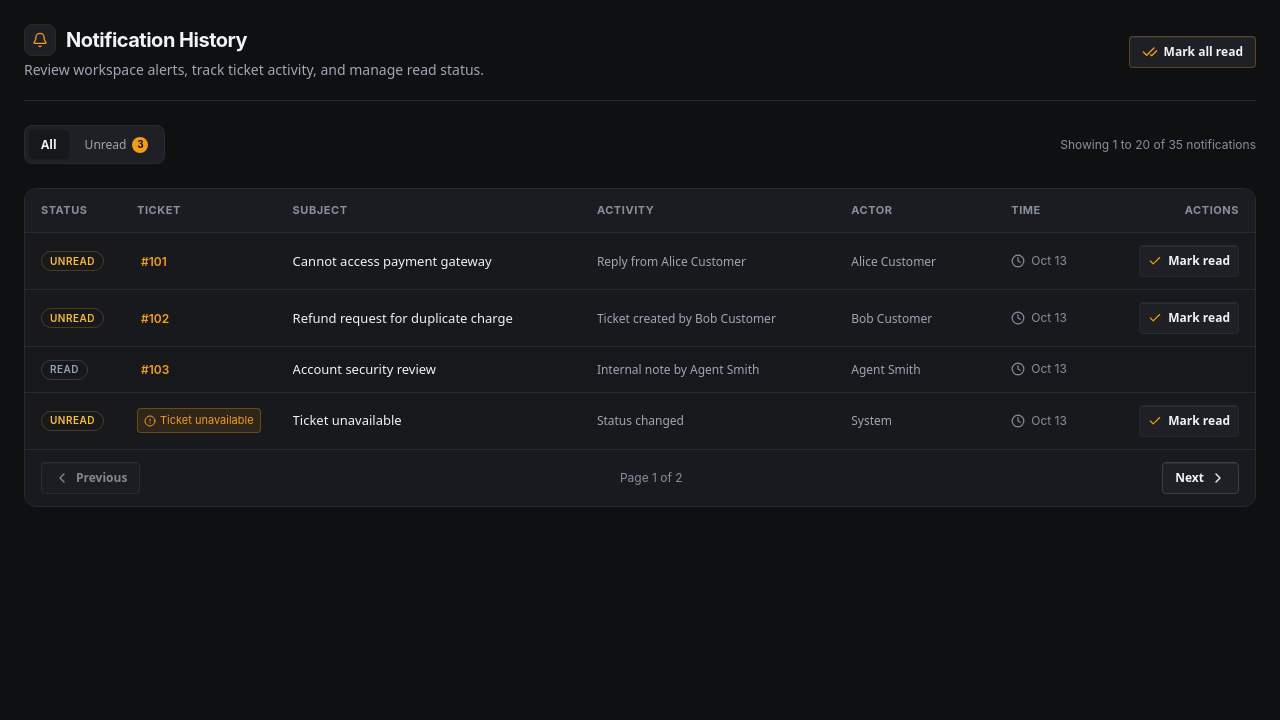
Test: NotificationHistoryView Component › paginates accurately with Next and Previous buttons and disabled boundaries
Expected: the text "Cannot access payment gateway" is shown, x1=293 y1=252 x2=492 y2=270
Expected: the button with test id "pagination-prev-btn" is disabled, x1=41 y1=462 x2=140 y2=494
Click next
Step 1. Click the button with test id "pagination-next-btn" → click(1201, 478), box x1=1162 y1=462 x2=1239 y2=494
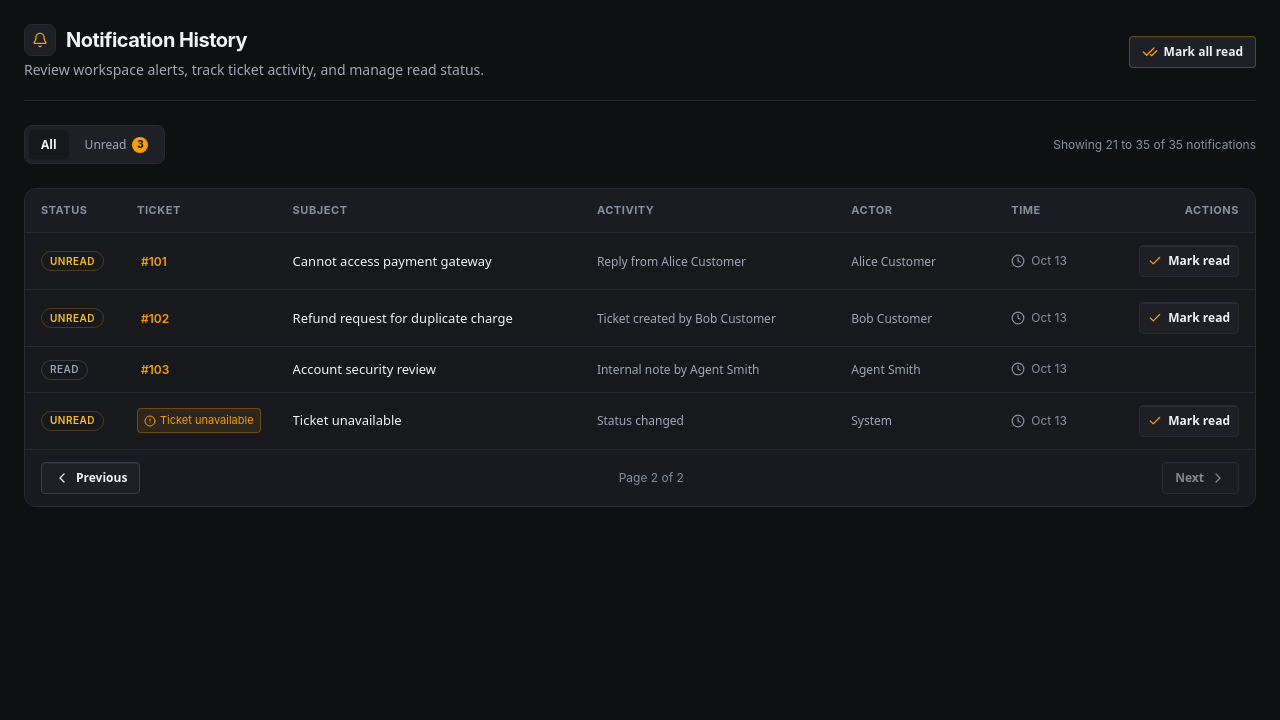
Now the text with test id "pagination-page-indicator" reads "Page 2 of 2", box x1=619 y1=470 x2=684 y2=486
Now the button with test id "pagination-next-btn" is disabled, box x1=1162 y1=462 x2=1239 y2=494
Now the button with test id "pagination-prev-btn" is enabled, box x1=41 y1=462 x2=140 y2=494
